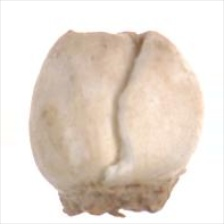L3: (65, 23, 168, 40)
L4: (28, 28, 201, 217)
